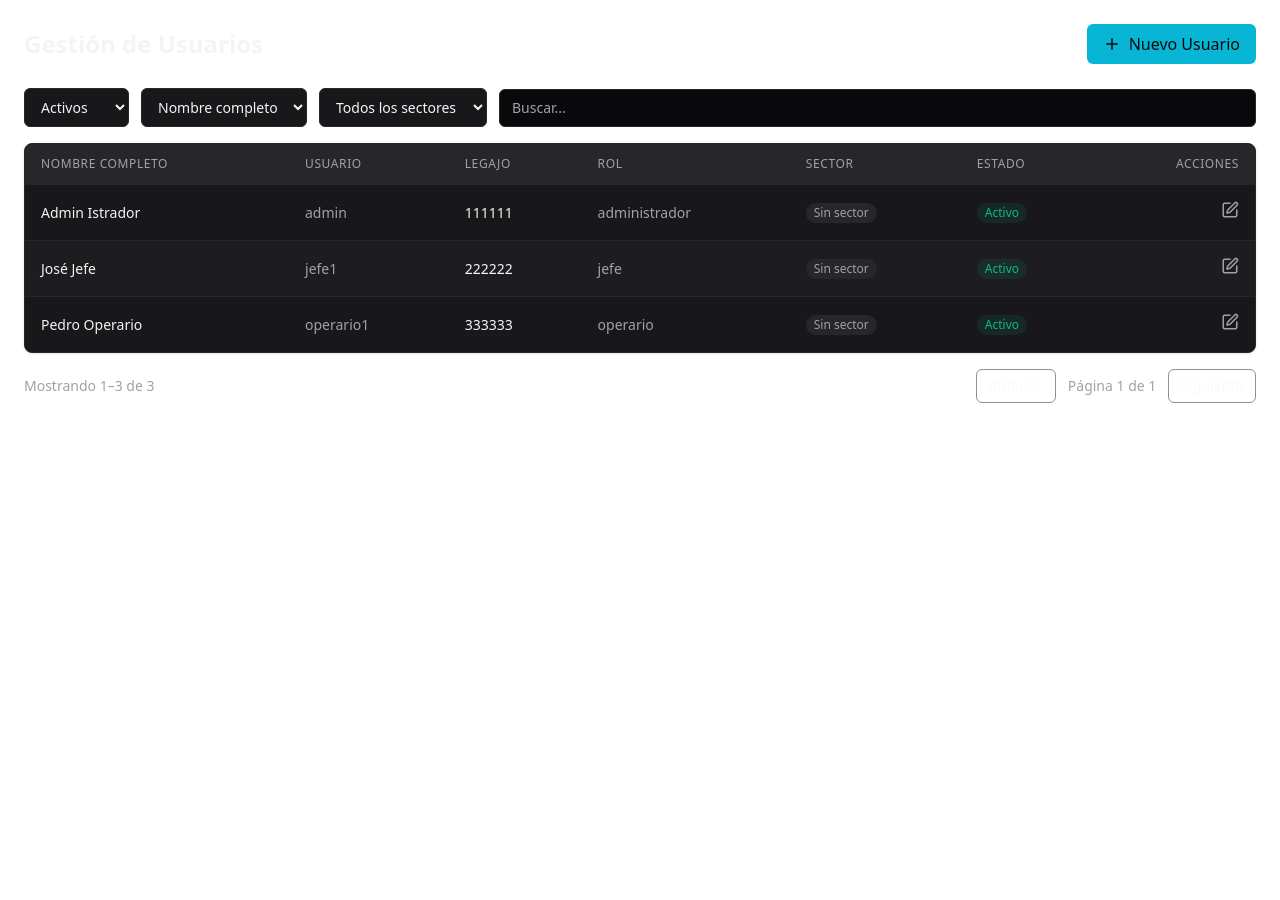
Test: UsuariosPage › validation errors from the API › marks the offending input and explains the reason under it and in the notification
The width and height of the screenshot is (1280, 900).
Click the button titled "Editar" in the row of "Admin Istrador".
click(1230, 210)  # box [1221,201,1239,219]
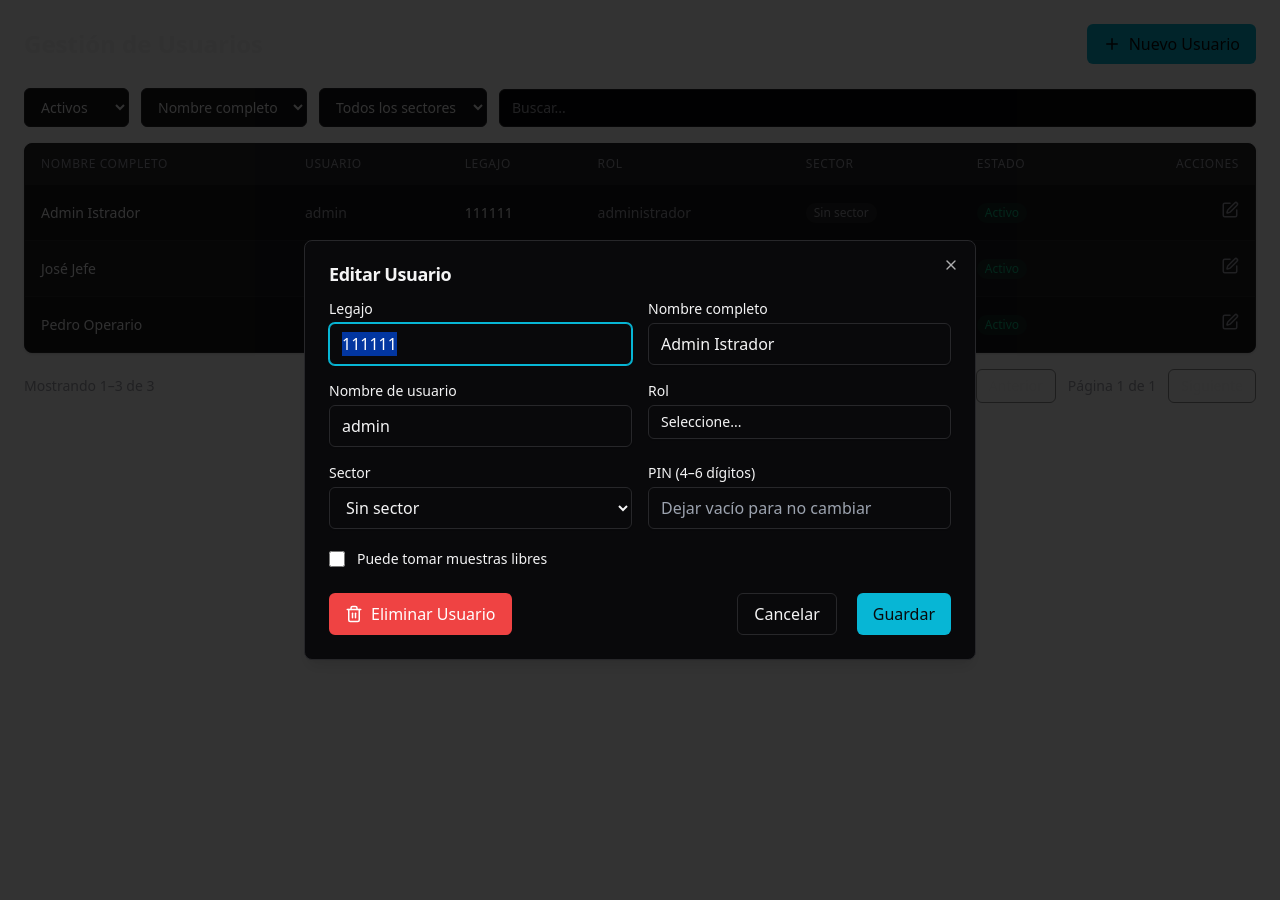
Click the button "Guardar".
click(904, 614)  # box [857,593,951,635]
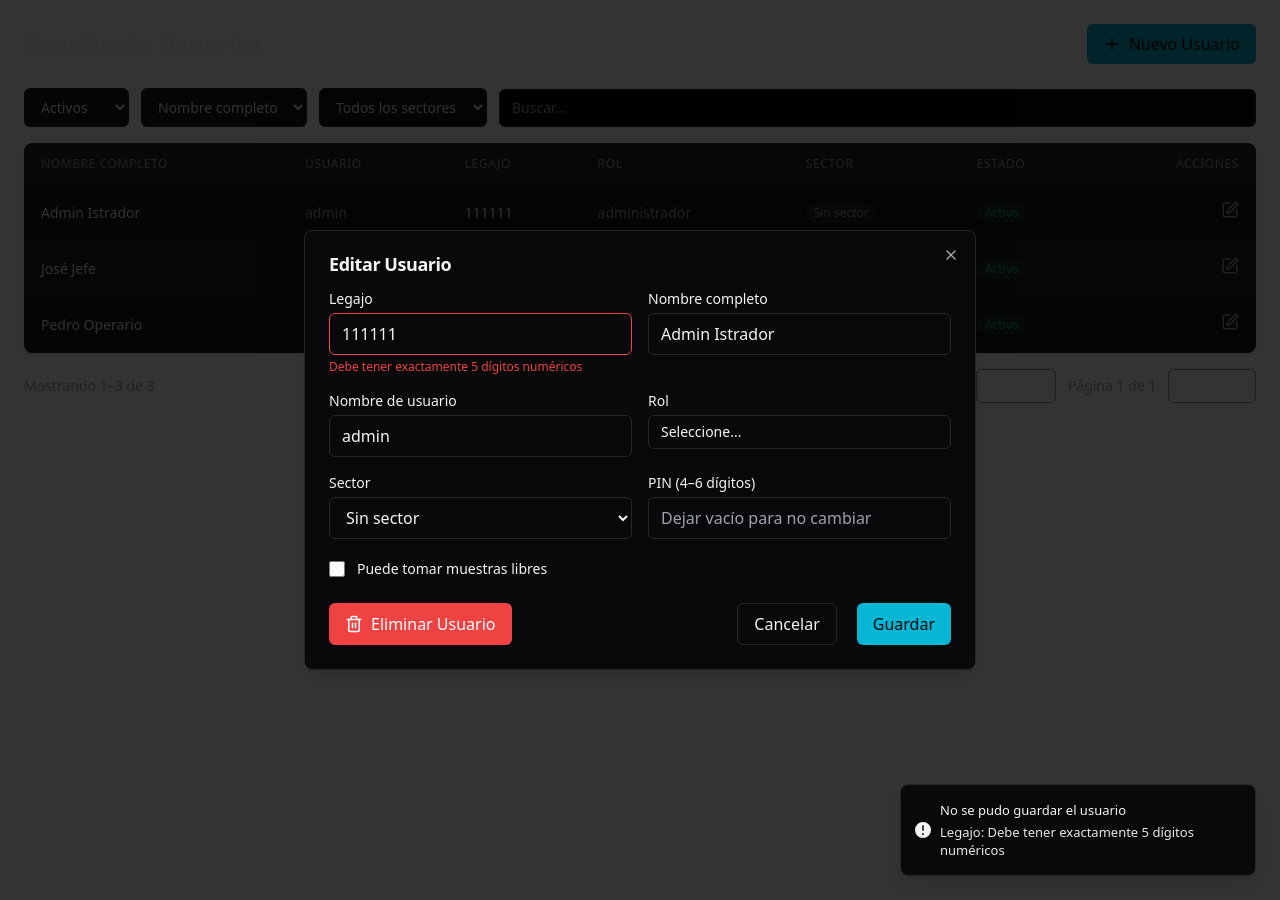
Result: the text "No se pudo guardar el usuario" is shown at [940,801,1126,819]
Result: the list item "Legajo: Debe tener exactamente 5 dígitos numéricos" is shown at [940,823,1194,859]
